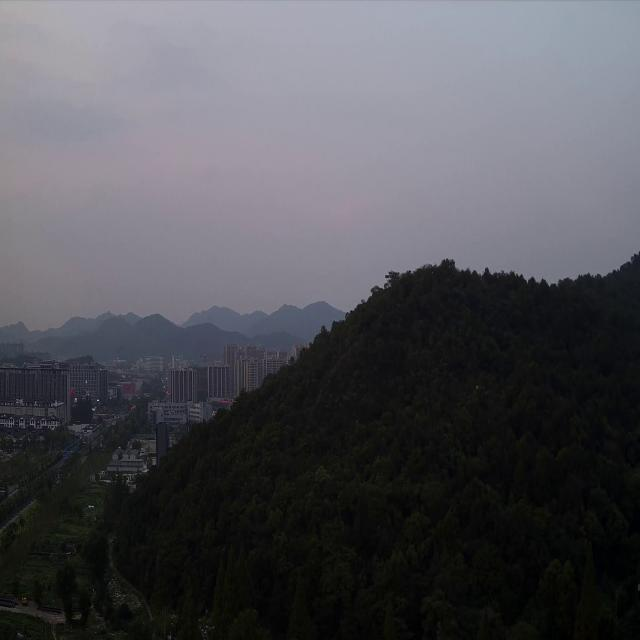UAV: (472, 382, 482, 392)
